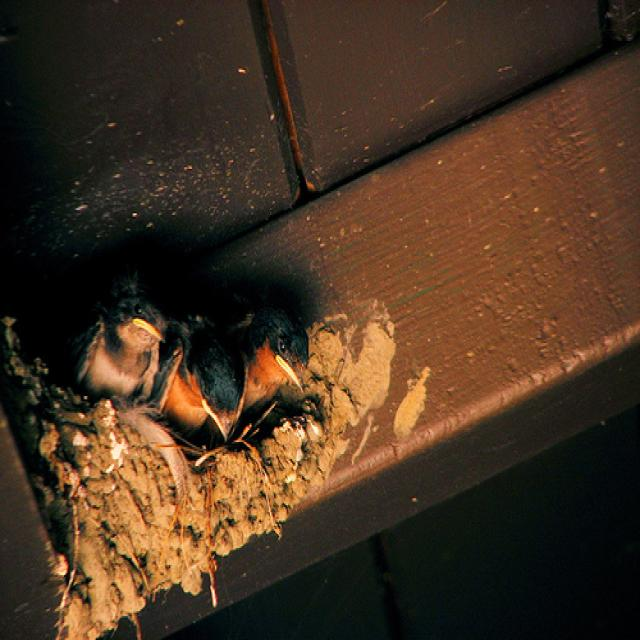bird: (68, 266, 166, 404), (160, 317, 251, 446), (246, 308, 310, 402)
